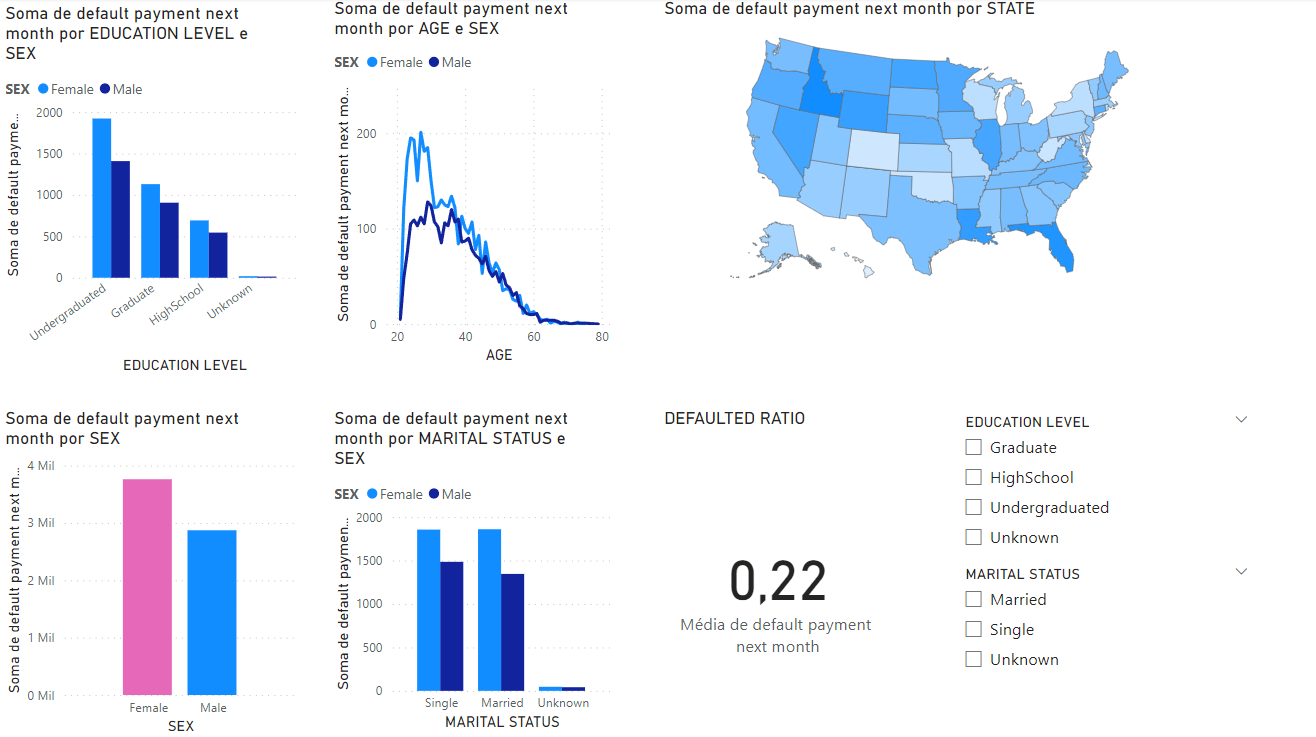

What the dashboard file says about the page in this screenshot:
{"tool":"powerbi","page":{"name":"Página 1","canvas":[1280,720],"ordinal":0},"visuals":[{"type":"clusteredColumnChart","fields":{"Y":["Sum(Data.default payment next month)"],"Category":["Data.EDUCATION LEVEL"],"Series":["Data.SEX"]},"box":[0,4.9,294.5,365.4],"z":0},{"type":"lineChart","fields":{"Category":["Data.AGE"],"Y":["Sum(Data.default payment next month)"],"Series":["Data.SEX"]},"box":[319.8,0,279.9,359.6],"z":1000},{"type":"clusteredColumnChart","fields":{"Y":["Sum(Data.default payment next month)"],"Category":["Data.SEX"]},"box":[0,398.5,294.5,321.7],"z":2000},{"type":"shapeMap","fields":{"Category":["Data.STATE"],"Value":["Sum(Data.default payment next month)"]},"box":[640.5,0,525.8,289.6],"z":2001},{"type":"clusteredColumnChart","fields":{"Y":["Sum(Data.default payment next month)"],"Category":["Data.MARITAL STATUS"],"Series":["Data.SEX"]},"box":[319.8,398.5,279.9,317.8],"z":2002},{"type":"card","title":"DEFAULTED RATIO","fields":{"Values":["Avg(Data.default payment next month)"]},"box":[640.5,398.5,231.3,321.7],"z":2003},{"type":"slicer","fields":{"Values":["Data.EDUCATION LEVEL"]},"box":[925.3,398.5,300.3,159.4],"z":2004},{"type":"slicer","fields":{"Values":["Data.MARITAL STATUS"]},"box":[925.3,546.2,300.3,159.4],"z":2005}]}

Visuals, with their boxes in screenshot pixels (x1, y1, x2, y2), scaled from the page's 1280x720 canvas onto the 1316x737 screenshot:
clusteredColumnChart - Sum(Data.default payment next month) x Data.EDUCATION LEVEL: 0,5,303,379
lineChart - Data.AGE x Sum(Data.default payment next month): 329,0,617,368
clusteredColumnChart - Sum(Data.default payment next month) x Data.SEX: 0,408,303,736
shapeMap - Data.STATE x Sum(Data.default payment next month): 659,0,1199,296
clusteredColumnChart - Sum(Data.default payment next month) x Data.MARITAL STATUS: 329,408,617,733
"DEFAULTED RATIO" card: 659,408,896,736
slicer - Data.EDUCATION LEVEL: 951,408,1260,571
slicer - Data.MARITAL STATUS: 951,559,1260,722
